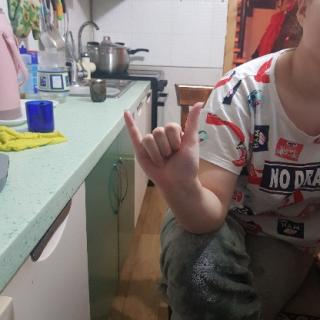YA: (120, 98, 206, 190)
